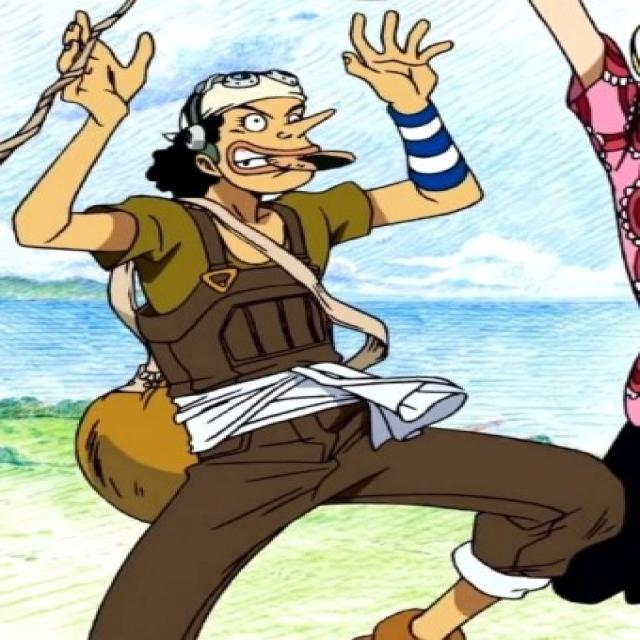Usopp: (137, 50, 377, 206)
